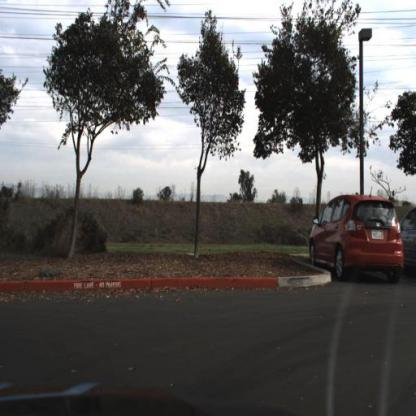car: (309, 191, 406, 283), (399, 203, 416, 271)
